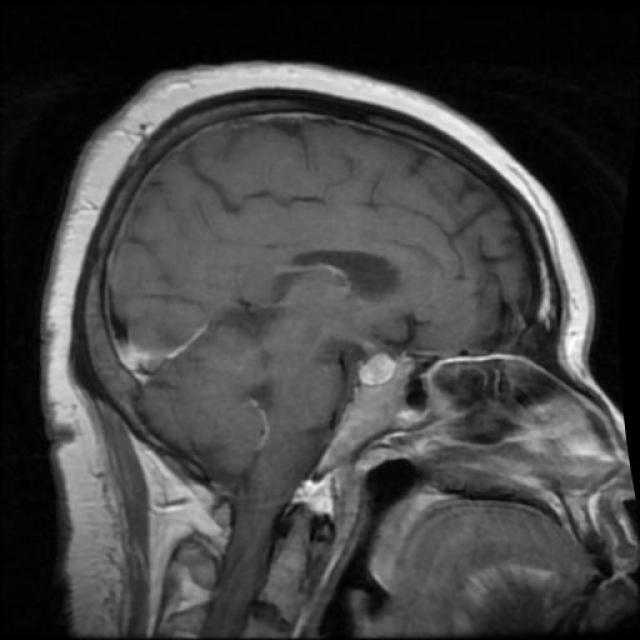pituitary: (326, 336, 420, 437)
